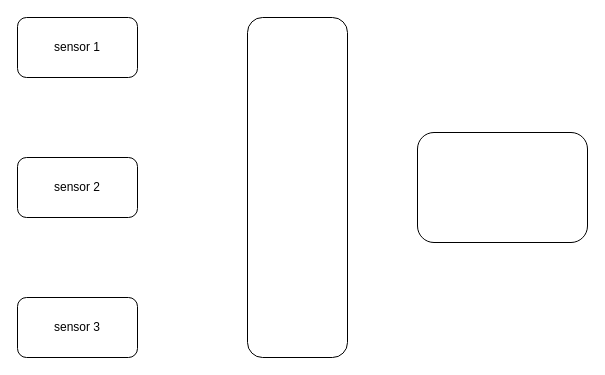
This 605x375 diagram has some shape labels left out. Each missing label, with the box of its shape:
grassnet: (416, 132, 588, 242)
security module: (246, 16, 348, 358)
